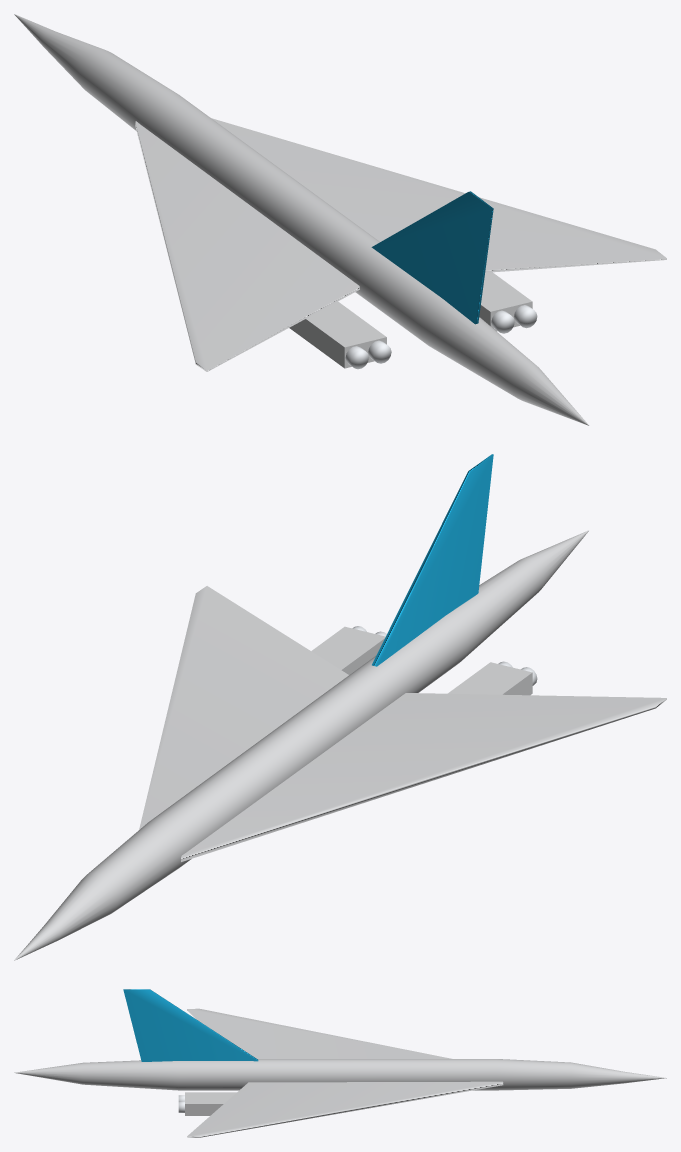
Rendered from concorde.glb.
3 views of the same model, one above another, from view 1: azimuth 30°, elevation 25°; view 2: azimuth 150°, elevation 25°; view 3: azimuth 270°, elevation 25° (orthographic). The views are drawn at different scales.
Parts seen in each view (by area): view 1: DeltaWings, Fuselage, TailFin, OlympusTurbojets; view 2: DeltaWings, Fuselage, TailFin, OlympusTurbojets; view 3: Fuselage, DeltaWings, TailFin, OlympusTurbojets.
Part boxes in pixels (left/top/right/bottom): DeltaWings: left=135, top=118, right=666, bottom=371; Fuselage: left=14, top=14, right=589, bottom=425; TailFin: left=371, top=191, right=493, bottom=324; OlympusTurbojets: left=289, top=272, right=537, bottom=369; DeltaWings: left=139, top=586, right=666, bottom=861; Fuselage: left=14, top=530, right=588, bottom=960; TailFin: left=372, top=454, right=493, bottom=666; OlympusTurbojets: left=311, top=626, right=537, bottom=695; Fuselage: left=14, top=1059, right=666, bottom=1090; DeltaWings: left=187, top=1008, right=503, bottom=1137; TailFin: left=123, top=989, right=258, bottom=1061; OlympusTurbojets: left=178, top=1092, right=236, bottom=1115.
Size of the model in its own units: 28.4 by 10.42 by 61.5.
